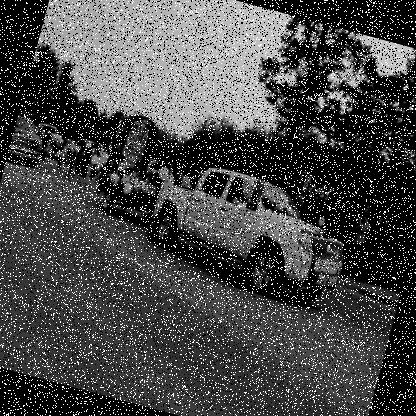Car: (140, 154, 358, 313), (6, 121, 48, 169), (65, 136, 111, 167), (31, 122, 64, 152), (143, 158, 172, 186), (59, 138, 78, 155)
